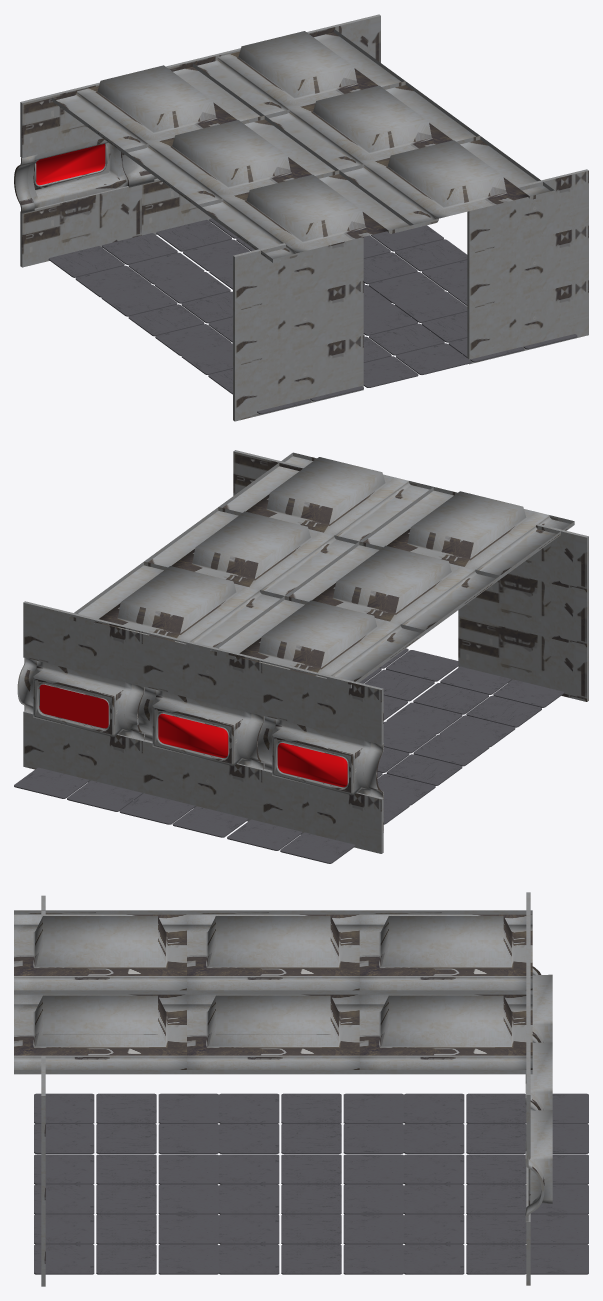
File: whole room_second-version.fbx
3 renders of one model, top to bottom at view 1: azimuth 30°, elevation 25°; view 2: azimuth 150°, elevation 25°; view 3: azimuth 270°, elevation 25°, orthographic. The views are drawn at different scales.
Visible parts, largest first — view 1: Pared trasera.007, Piso losa.003, Piso losa.001, Piso losa.002; view 2: Pared trasera.007, Piso losa.003, Piso losa.002, Piso losa.001; view 3: Pared trasera.007, Piso losa.001, Piso losa.002, Piso losa.003.
Part boxes in pixels (x1=…): Pared trasera.007: x1=14, y1=14, x2=588, y2=421; Piso losa.003: x1=48, y1=233, x2=363, y2=414; Piso losa.001: x1=363, y1=225, x2=577, y2=362; Piso losa.002: x1=156, y1=218, x2=471, y2=387; Pared trasera.007: x1=17, y1=450, x2=588, y2=853; Piso losa.003: x1=227, y1=666, x2=564, y2=863; Piso losa.002: x1=119, y1=648, x2=458, y2=837; Piso losa.001: x1=14, y1=767, x2=142, y2=811; Pared trasera.007: x1=14, y1=892, x2=552, y2=1286; Piso losa.001: x1=34, y1=1214, x2=588, y2=1274; Piso losa.002: x1=34, y1=1154, x2=588, y2=1214; Piso losa.003: x1=34, y1=1093, x2=588, y2=1153.
Bounding box in the file's own units: 2403 × 1144 × 2874.
